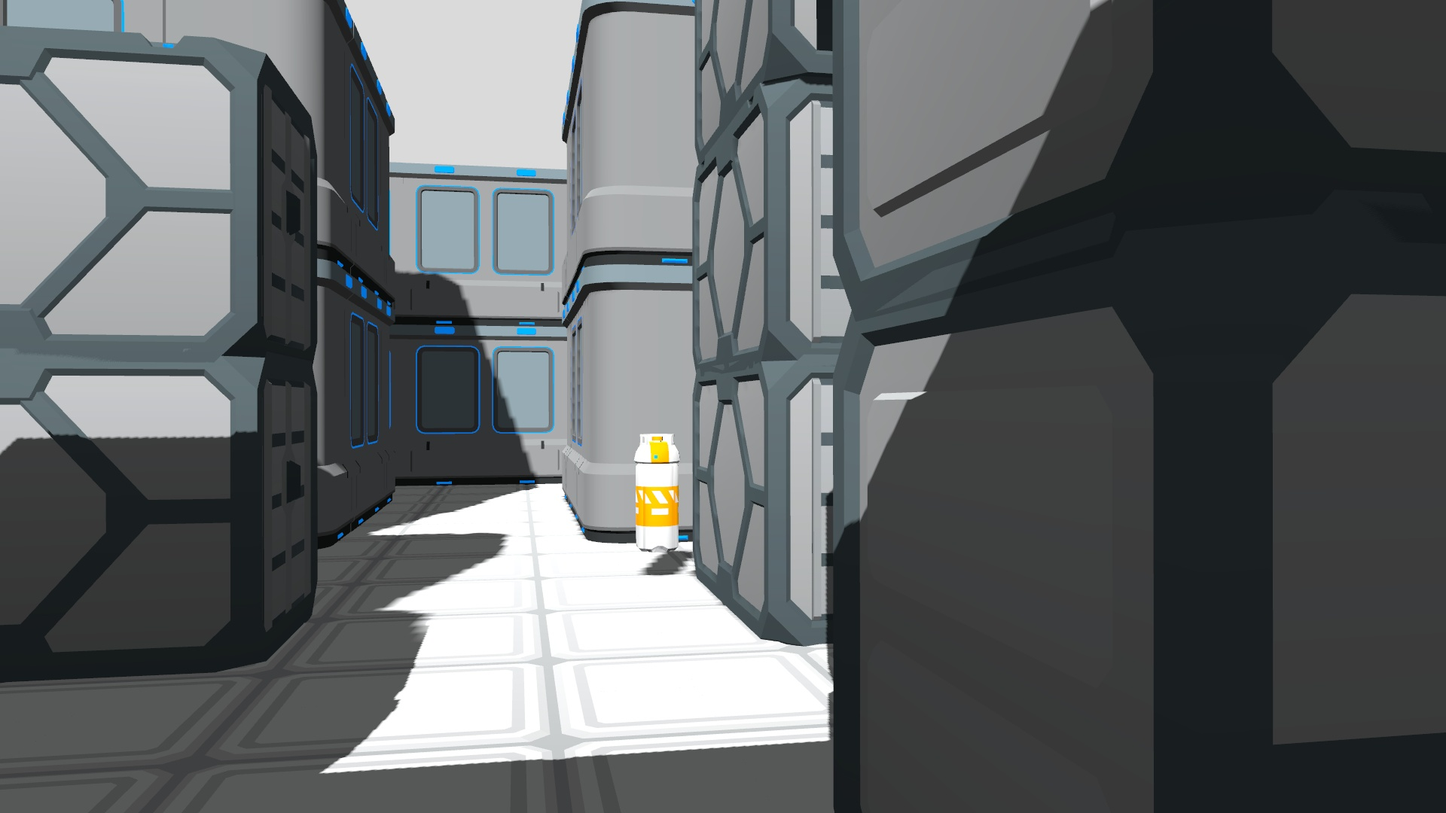yellow_barrel: (630, 428, 685, 558)
